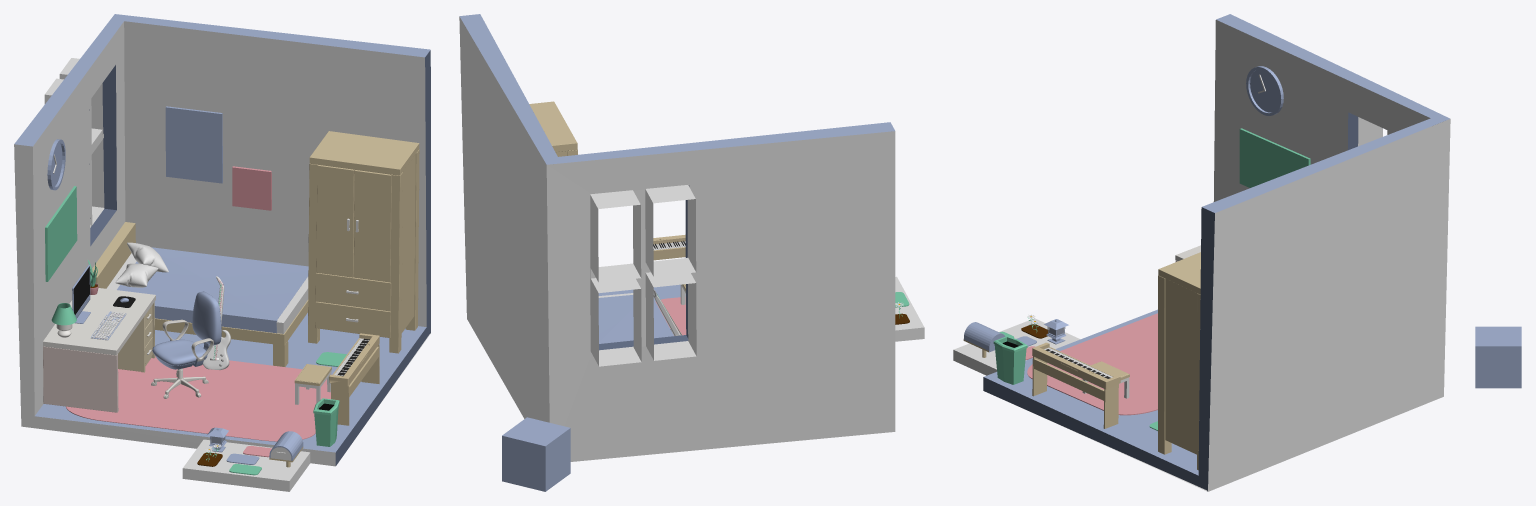
The model's file is Final_version2.glb.
3 views of the same model, side by side, from view 1: azimuth 30°, elevation 25°; view 2: azimuth 150°, elevation 25°; view 3: azimuth 270°, elevation 25° (orthographic). The views are drawn at different scales.
Parts seen in each view (by area): view 1: House, Desk.001, Floor_items.004, Bed, Clock, Minifloor, Chair, Piano, Desk_object, Computer, Mailbox; view 2: House, Cube, Bed, Desk.001, Floor_items.004, Minifloor, Piano; view 3: House, Desk.001, Floor_items.004, Clock, Piano, Cube, Minifloor, Mailbox.
Part boxes in pixels (box(x1,y1,x2,y2)): House: box(14, 14, 430, 466); Desk.001: box(43, 131, 419, 412); Floor_items.004: box(66, 276, 346, 446); Bed: box(92, 222, 308, 366); Clock: box(45, 106, 271, 281); Minifloor: box(182, 439, 310, 491); Chair: box(152, 291, 221, 369); Piano: box(329, 333, 379, 425); Desk_object: box(51, 260, 135, 340); Computer: box(72, 264, 90, 323); Mailbox: box(269, 431, 303, 467); House: box(459, 14, 895, 461); Cube: box(502, 417, 570, 491); Bed: box(598, 293, 673, 343); Desk.001: box(529, 101, 577, 156); Floor_items.004: box(653, 284, 686, 335); Minifloor: box(895, 276, 924, 341); Piano: box(653, 234, 685, 260); House: box(983, 14, 1450, 491); Desk.001: box(1158, 245, 1200, 470); Floor_items.004: box(993, 313, 1157, 430); Clock: box(1239, 66, 1310, 187); Piano: box(1032, 342, 1120, 428); Cube: box(1475, 326, 1521, 388); Minifloor: box(953, 318, 1080, 375); Mailbox: box(963, 322, 1005, 357).
Bounding box in the file's own units: 20.37 × 13.57 × 24.51.
